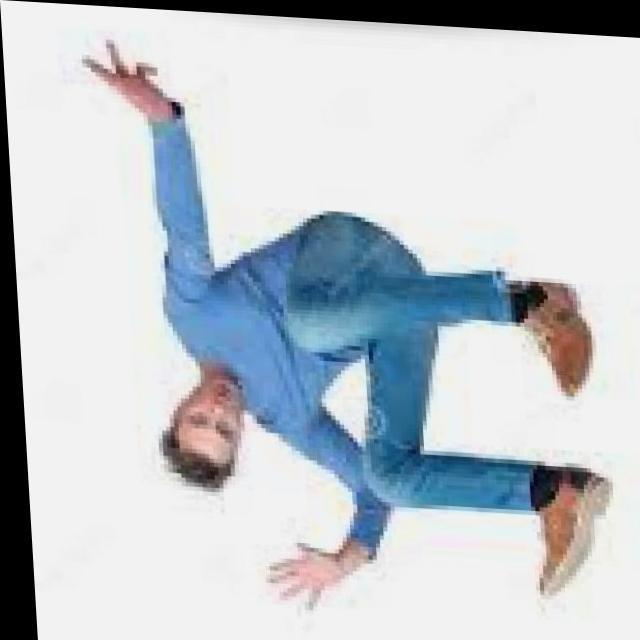fall: (83, 44, 614, 622)
